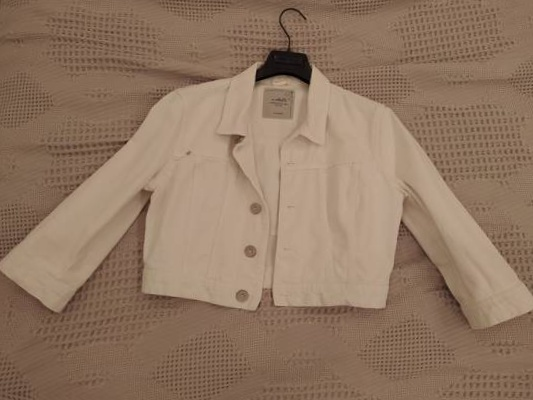Blazer: (0, 43, 533, 369)
